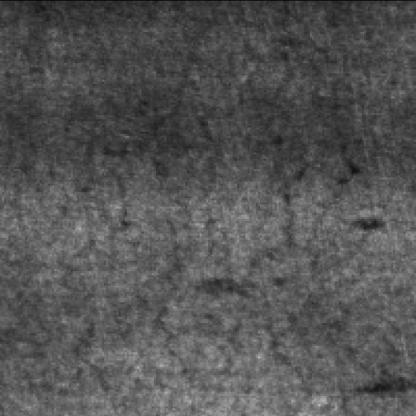crazing: (79, 49, 362, 378)
